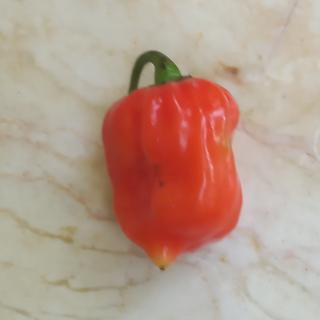Grade-A: (98, 74, 249, 274)
